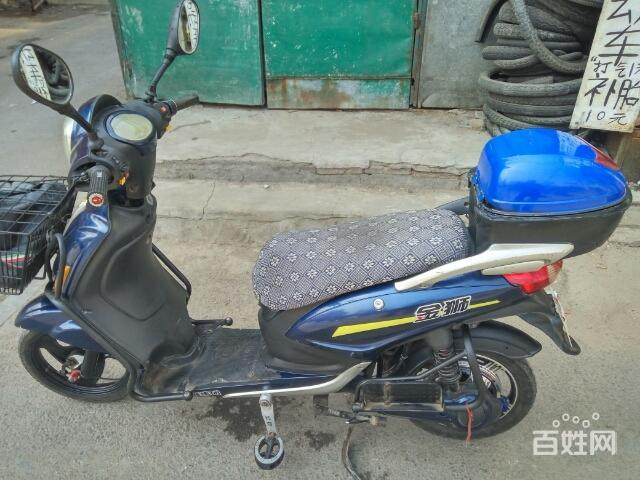电动车: (4, 2, 638, 467)
